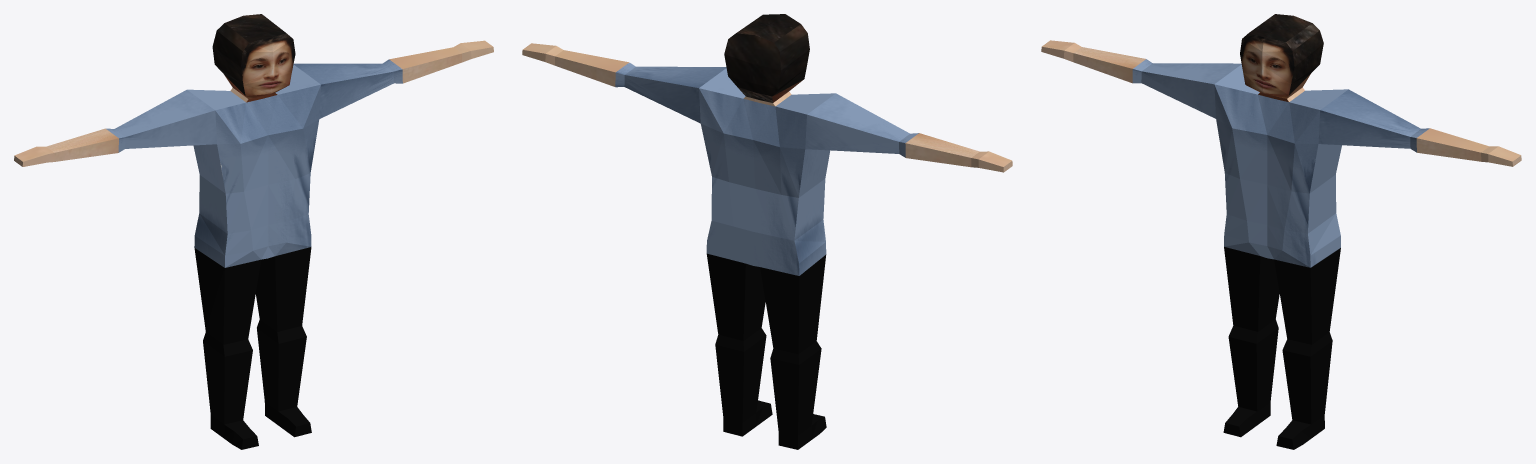
File: emma.fbx
3 renders of one model, left to right at view 1: azimuth 30°, elevation 25°; view 2: azimuth 150°, elevation 25°; view 3: azimuth 330°, elevation 25°, orthographic. The views are drawn at different scales.
Visible parts, largest first — view 1: emma; view 2: emma; view 3: emma.
Part boxes in pixels (box(x1,y1,x2,y2)): emma: box(14, 14, 493, 449); emma: box(522, 14, 1012, 449); emma: box(1041, 14, 1521, 449).
Size of the model in its own units: 1916 by 1557 by 268.
1 material, 1 textured.
